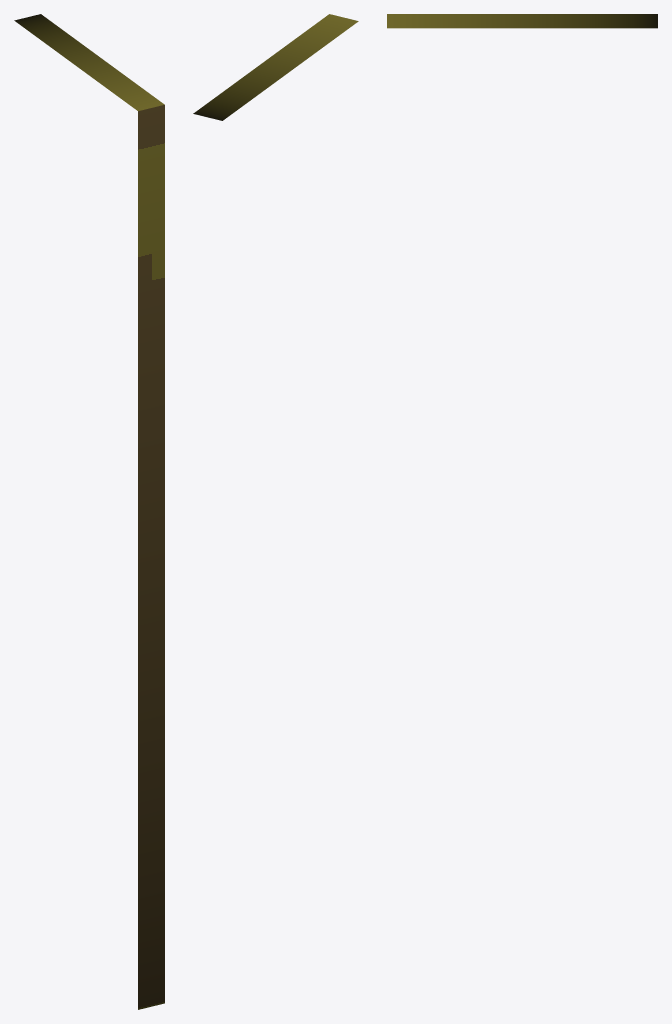
The picture shows the model from 3 angles, left to right: view 1: azimuth 30°, elevation 25°; view 2: azimuth 150°, elevation 25°; view 3: azimuth 270°, elevation 25°; orthographic projection. The views are drawn at different scales.
Size of the model in its own units: 0.0625 by 2 by 0.5.
1 material, 1 textured.
